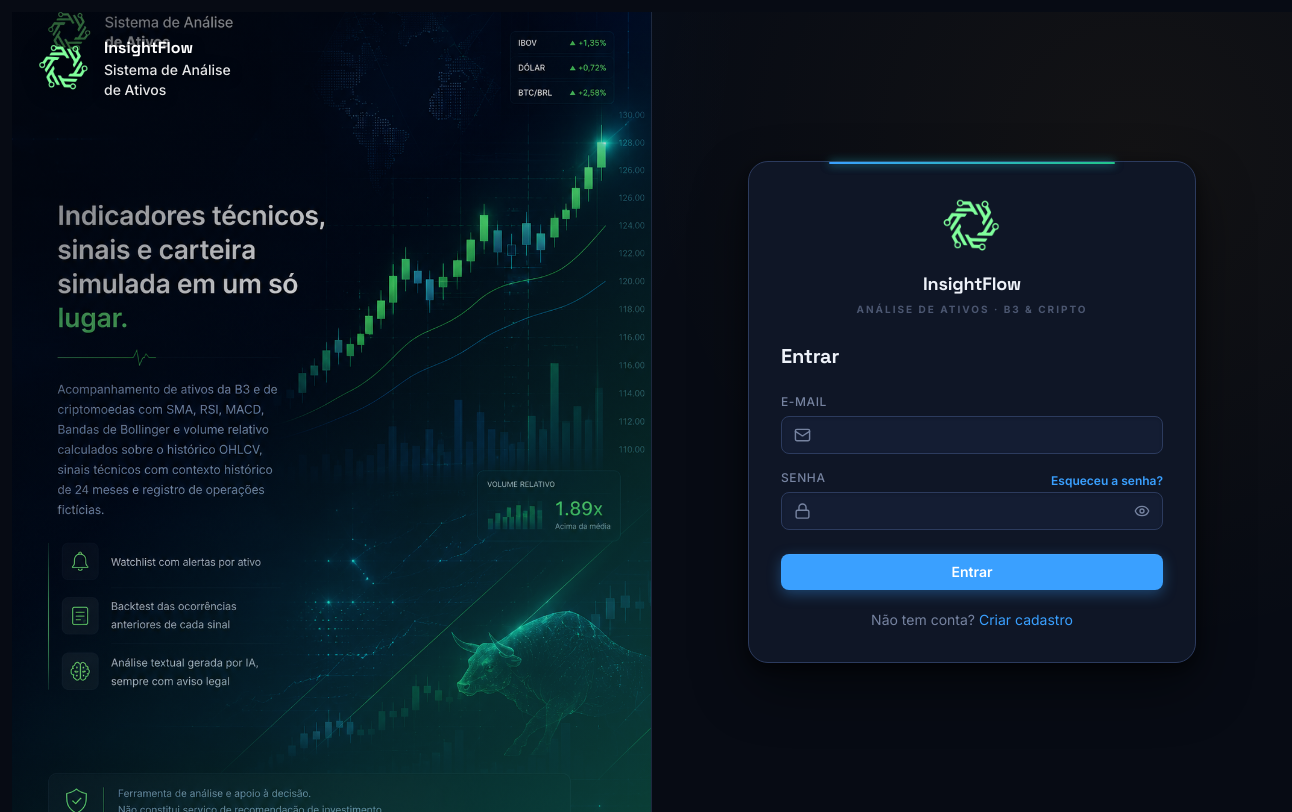
it: tela de login › mostra a mensagem do erro e mantém o usuário na tela quando o login falha
This screenshot has width=1292, height=812.
Type "maria@exemplo.com" into the field labelled "E-mail". click: (972, 435)
box: [781,416,1163,454]
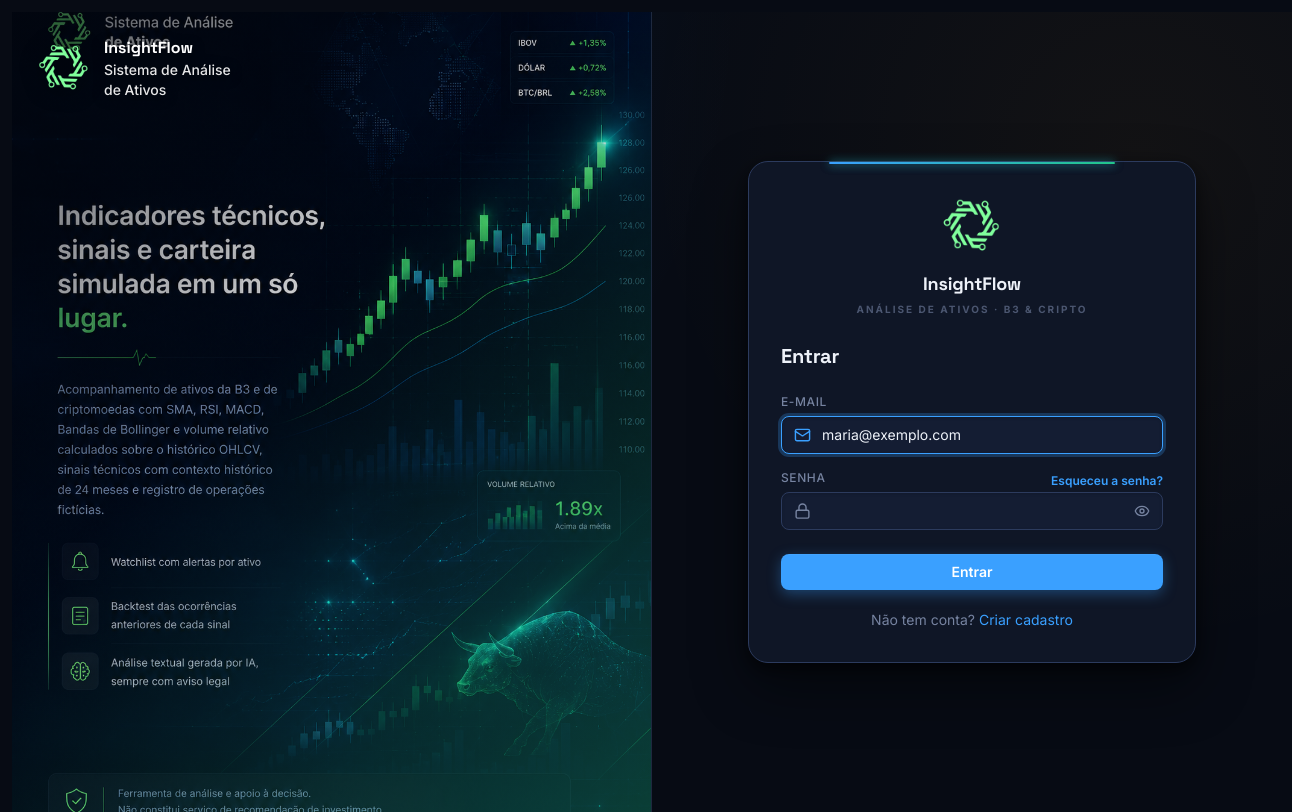
Type "errada" into the password field labelled "Senha". click: (972, 511)
box: [781,492,1163,530]
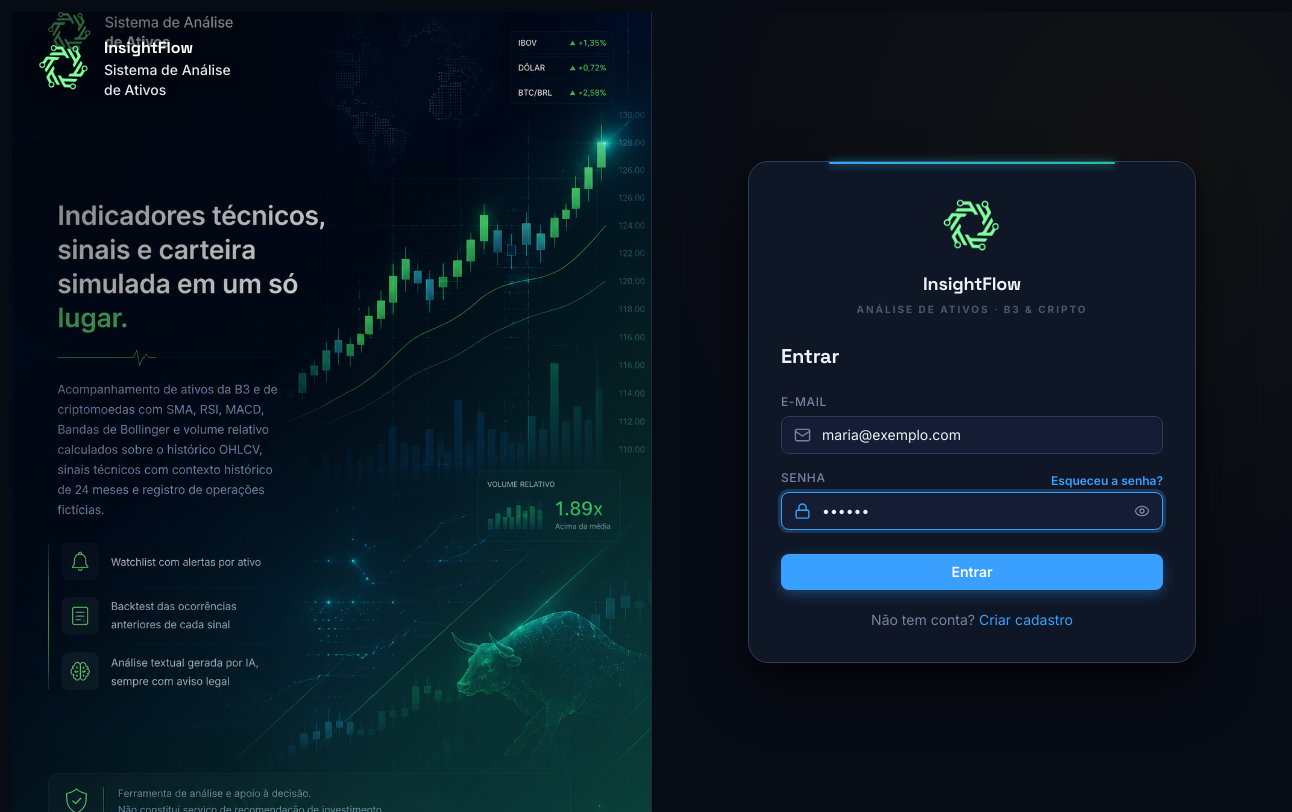
Click the button "Entrar". click: (972, 572)
box: [781,554,1163,590]
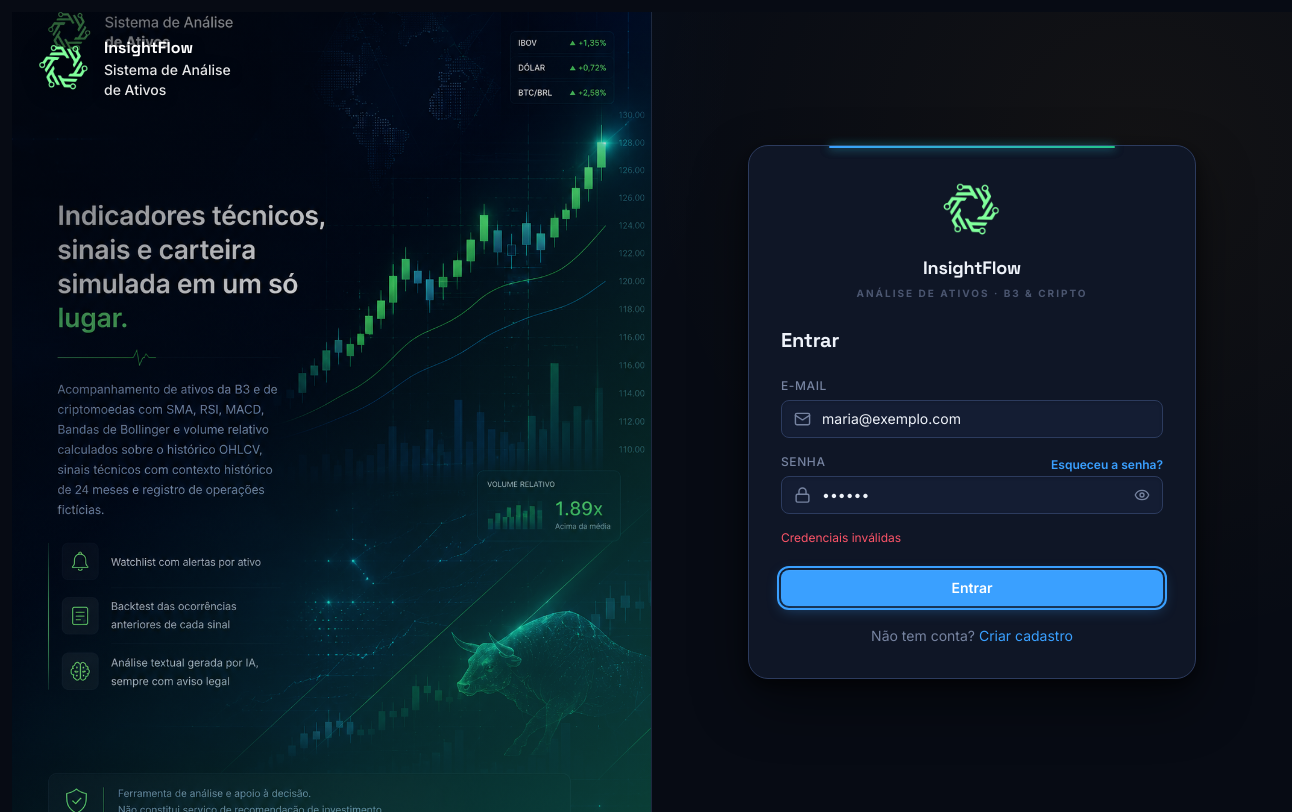
Expected: the button "Entrar" is shown, [781,570,1163,606]
Now the text "Credenciais inválidas" is shown, box [781,530,901,545]
